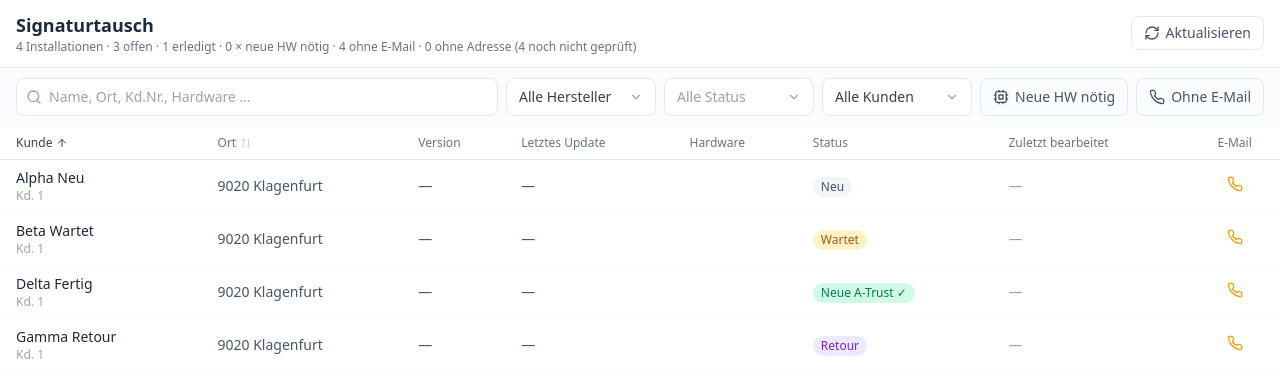
ViertlPage — Status-Mehrfachfilter (Multiselect-Dropdown) › kombiniert mehrere Status (OR) und das Popover bleibt offen
This screenshot has width=1280, height=376.
Expected: the text "Alpha Neu" is shown, [16, 168, 84, 188]
Click the button with aria-label "Status filtern".
click(739, 97)  # box [664, 78, 814, 116]
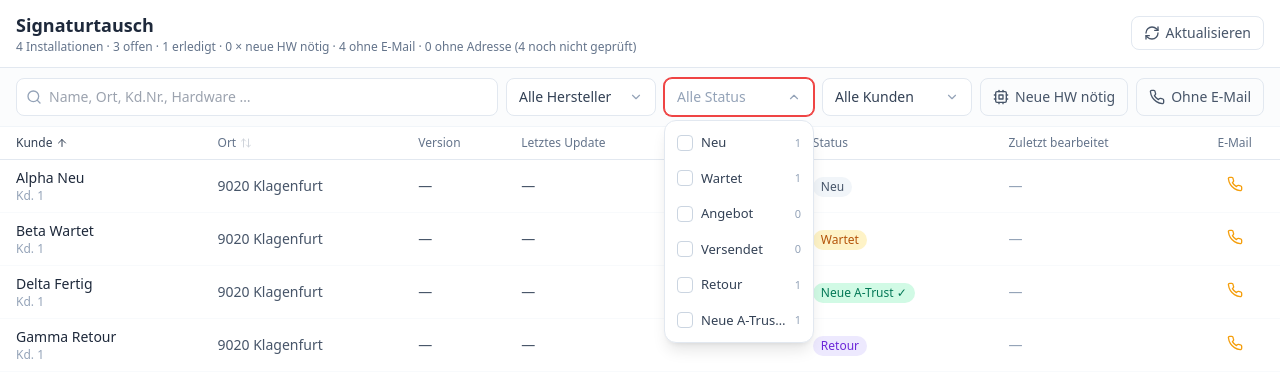
Click the option "Neu 1".
click(739, 143)  # box [665, 125, 813, 160]
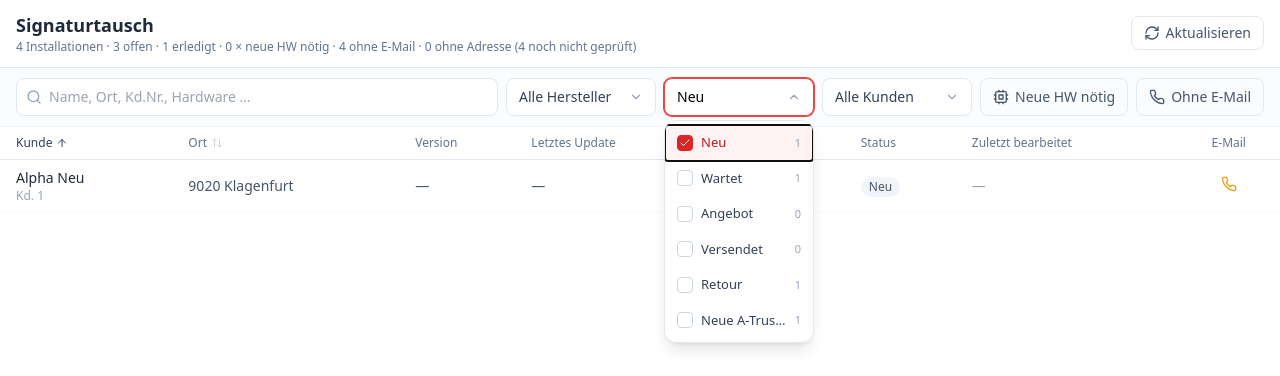
Click the option "Retour 1".
click(739, 285)  # box [665, 267, 813, 302]
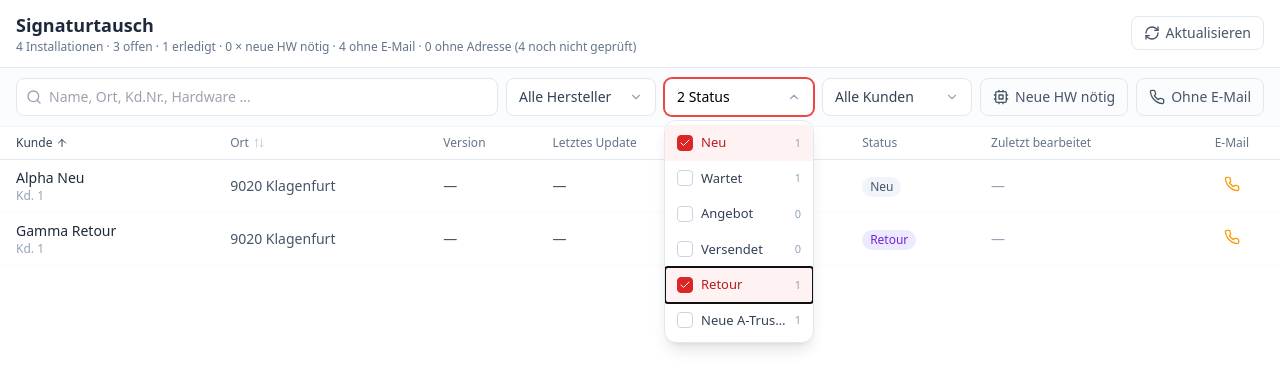
Expected: the button with aria-label "Status filtern" reads "2 Status", [664, 78, 814, 116]
